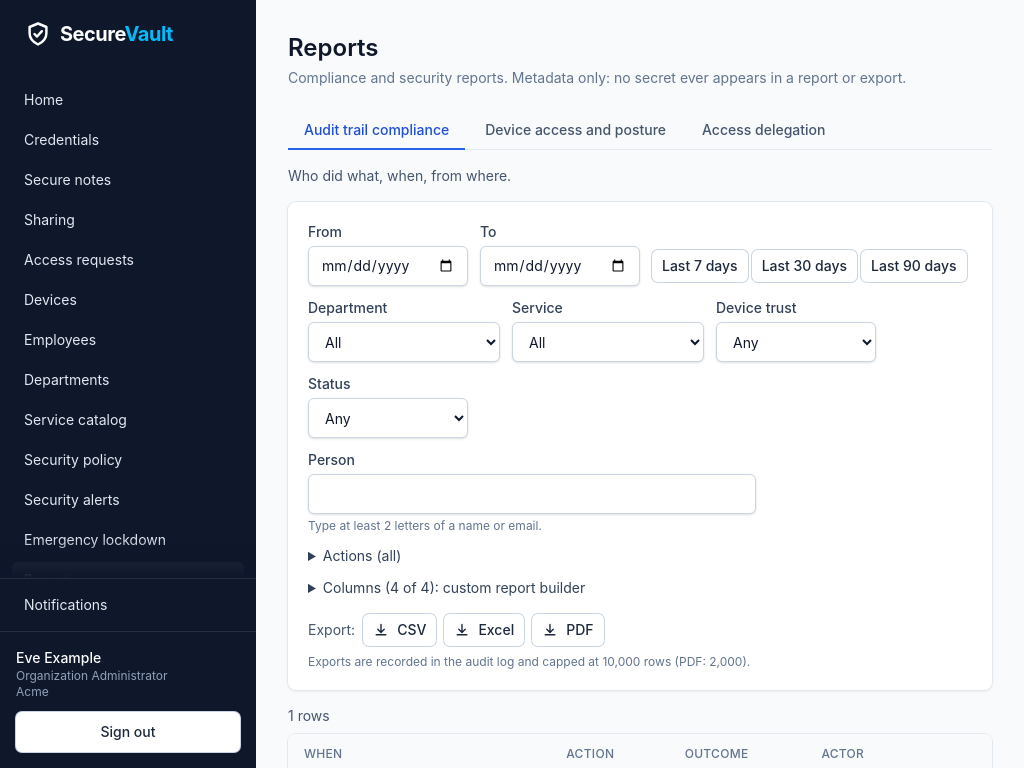
Test: reports › opens the delegation tree from the access delegation report
Click the tab "Access delegation".
click(764, 131)  # box [686,112,841,150]
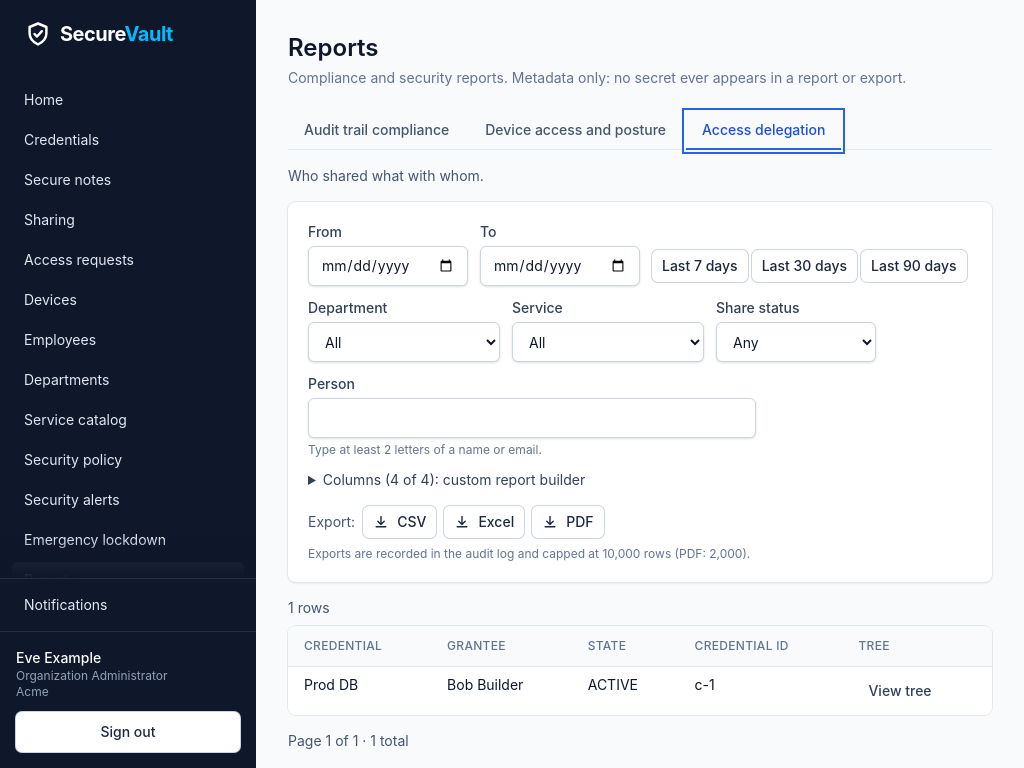
Expected: the dropdown labelled "Share status" is shown, [716,322,876,362]
Click the button "View tree".
click(900, 691)  # box [858,675,942,707]
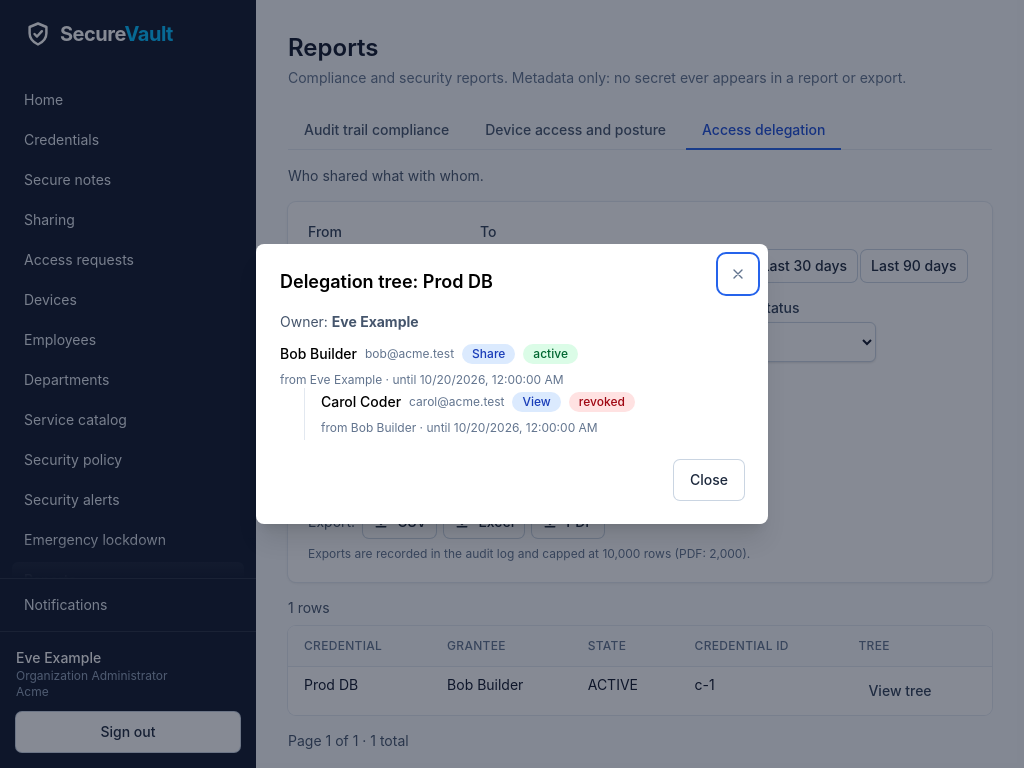
Now the text "Bob Builder" is shown, box [280,344,357,364]
Now the text "Carol Coder" is shown, box [321,392,401,412]
Now the text "revoked" is shown, box [569,392,635,412]
